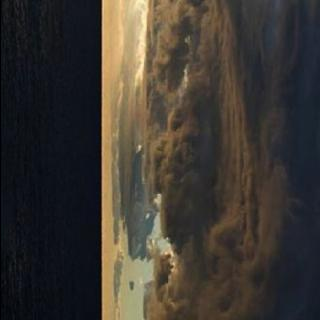Nimbostratus: (100, 0, 320, 320)
